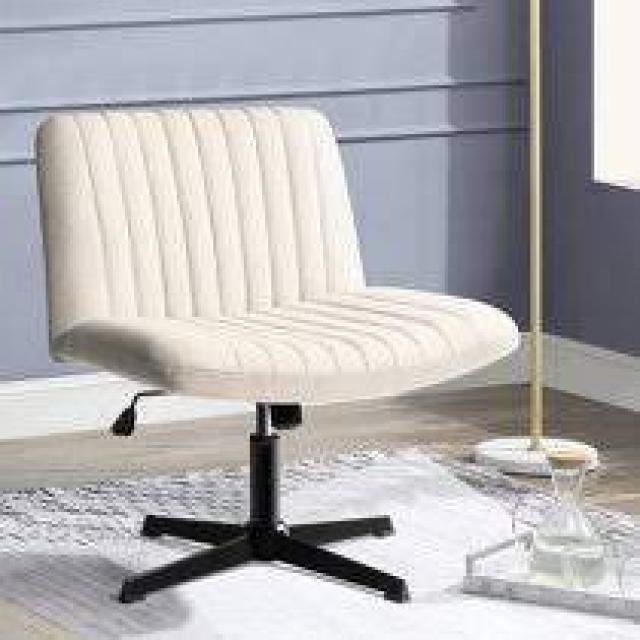chair: (4, 70, 533, 640)
